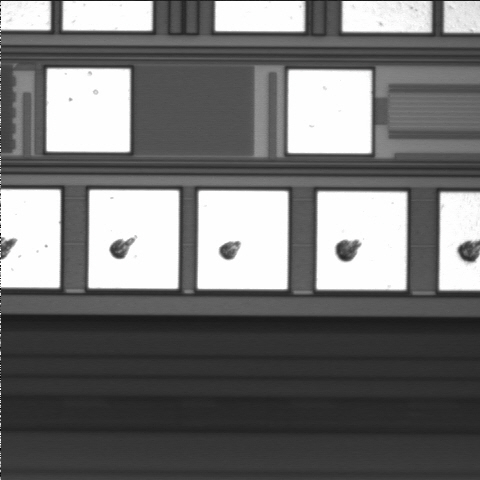pad: (88, 190, 179, 289), (198, 191, 288, 289), (317, 192, 407, 290), (47, 69, 130, 152), (288, 70, 371, 153)
